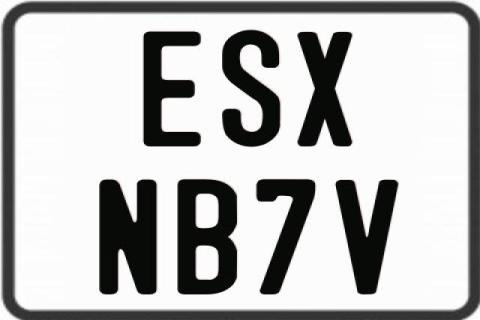0: (256, 179, 321, 295)
B: (175, 178, 239, 296)
E: (140, 30, 199, 148)
N: (99, 179, 158, 296)
S: (222, 28, 280, 149)
V: (333, 180, 397, 296)
X: (296, 31, 352, 145)
